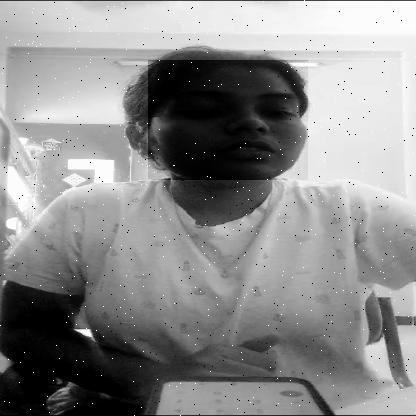Distracted: (148, 60, 308, 180)
